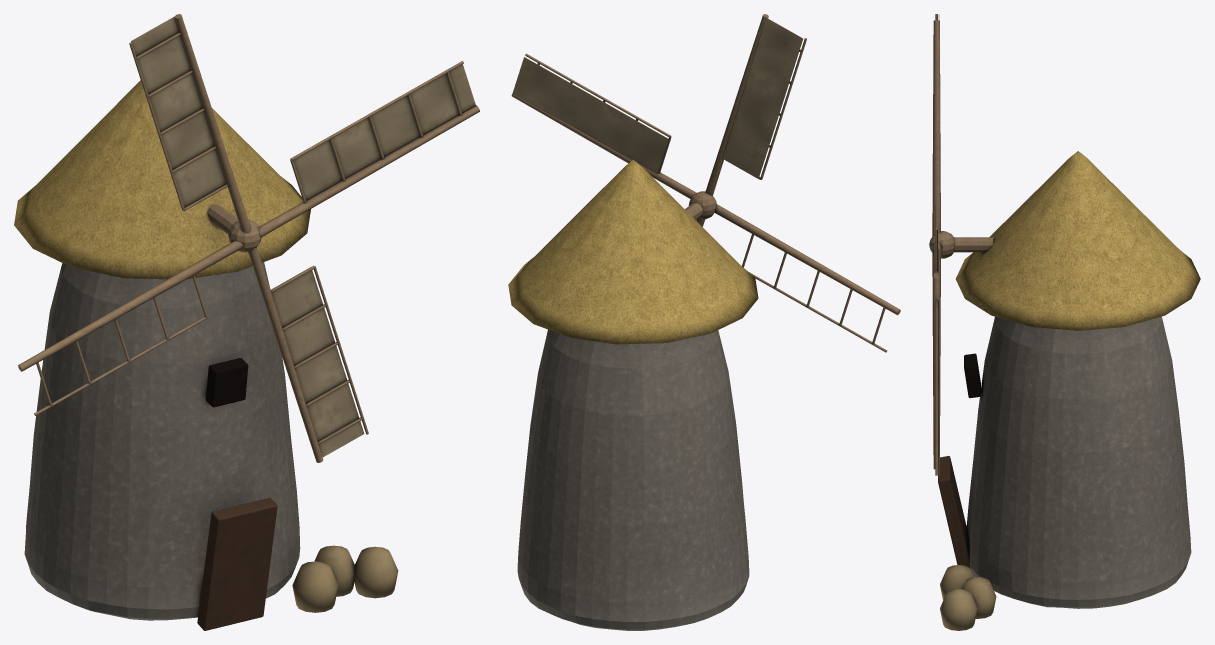
File: mata_moinho.glb
3 renders of one model, left to right at view 1: azimuth 30°, elevation 25°; view 2: azimuth 150°, elevation 25°; view 3: azimuth 270°, elevation 25°, orthographic. The views are drawn at different scales.
Visible parts, largest first — view 1: mata_moinho_tronco; view 2: mata_moinho_tronco; view 3: mata_moinho_tronco.
Part boxes in pixels (bbox=[...]): mata_moinho_tronco: bbox=[14, 14, 479, 630]; mata_moinho_tronco: bbox=[508, 14, 900, 630]; mata_moinho_tronco: bbox=[929, 14, 1200, 630].
Bounding box in the file's own units: 6.91 × 9.16 × 4.32.
Materials: 1 (1 with a texture image).
